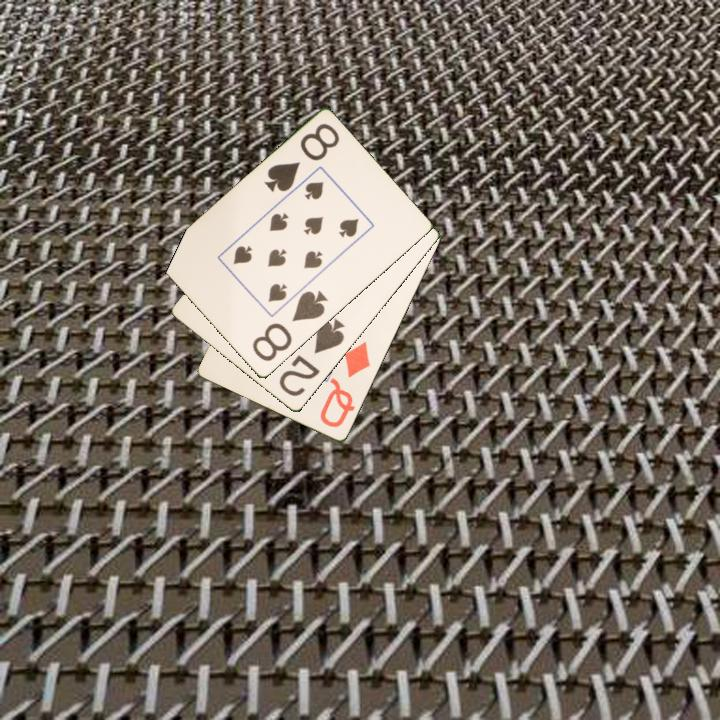2s: (275, 315, 348, 400)
8s: (248, 287, 331, 365), (261, 120, 342, 195)
Qd: (316, 338, 374, 431)
